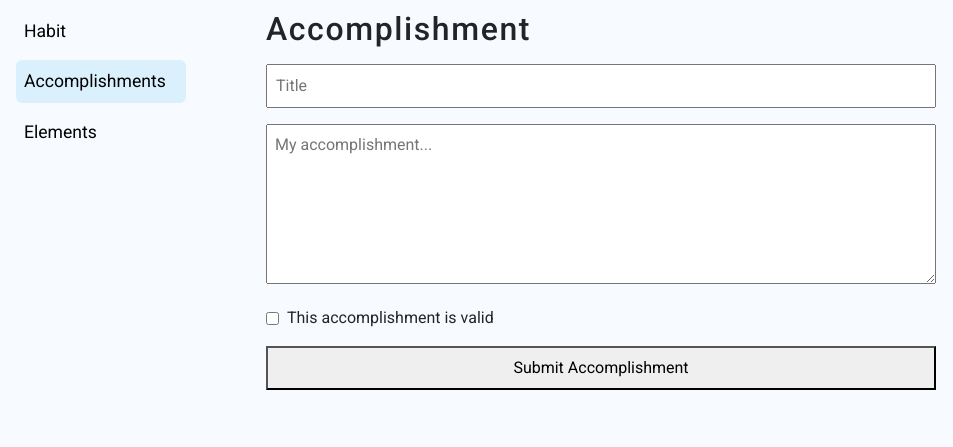
Test: accomplishments › Should display message when Submit button has been clicked and fields are empty
Click the button "Submit Accomplishment" at (601, 368), box [266,346,936,390]
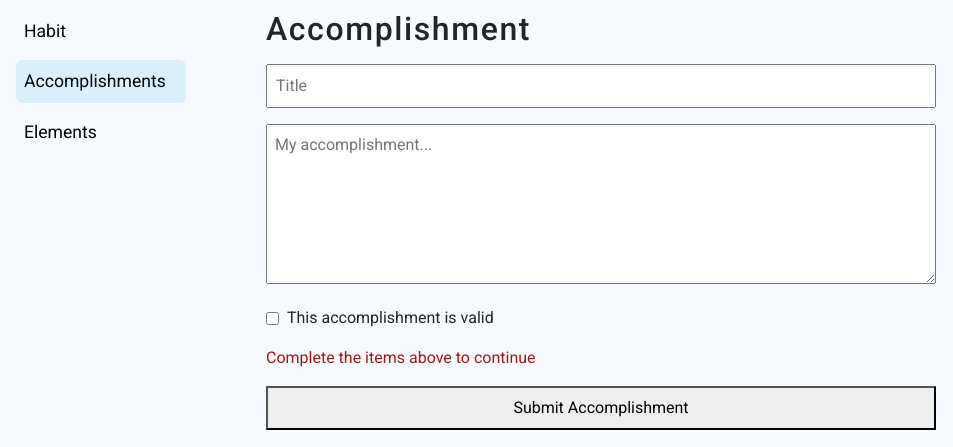
Now the text "Complete the items above to continue" is shown, box [266,348,536,367]
